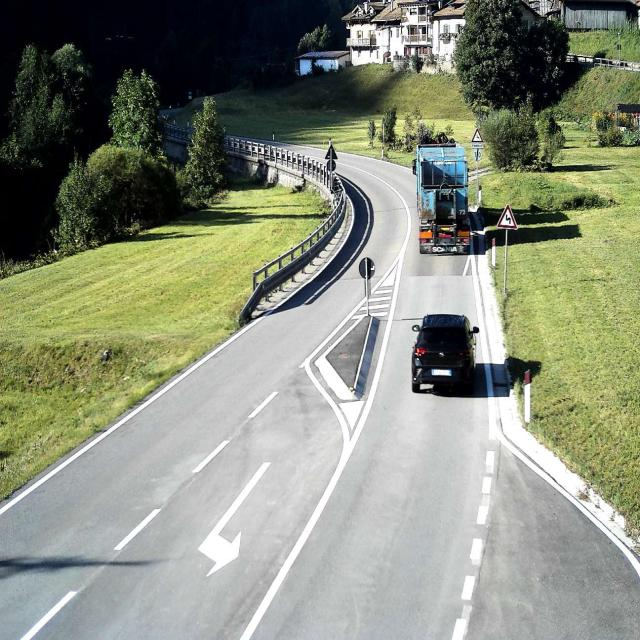car: (411, 313, 479, 393)
truck: (413, 141, 471, 254)
